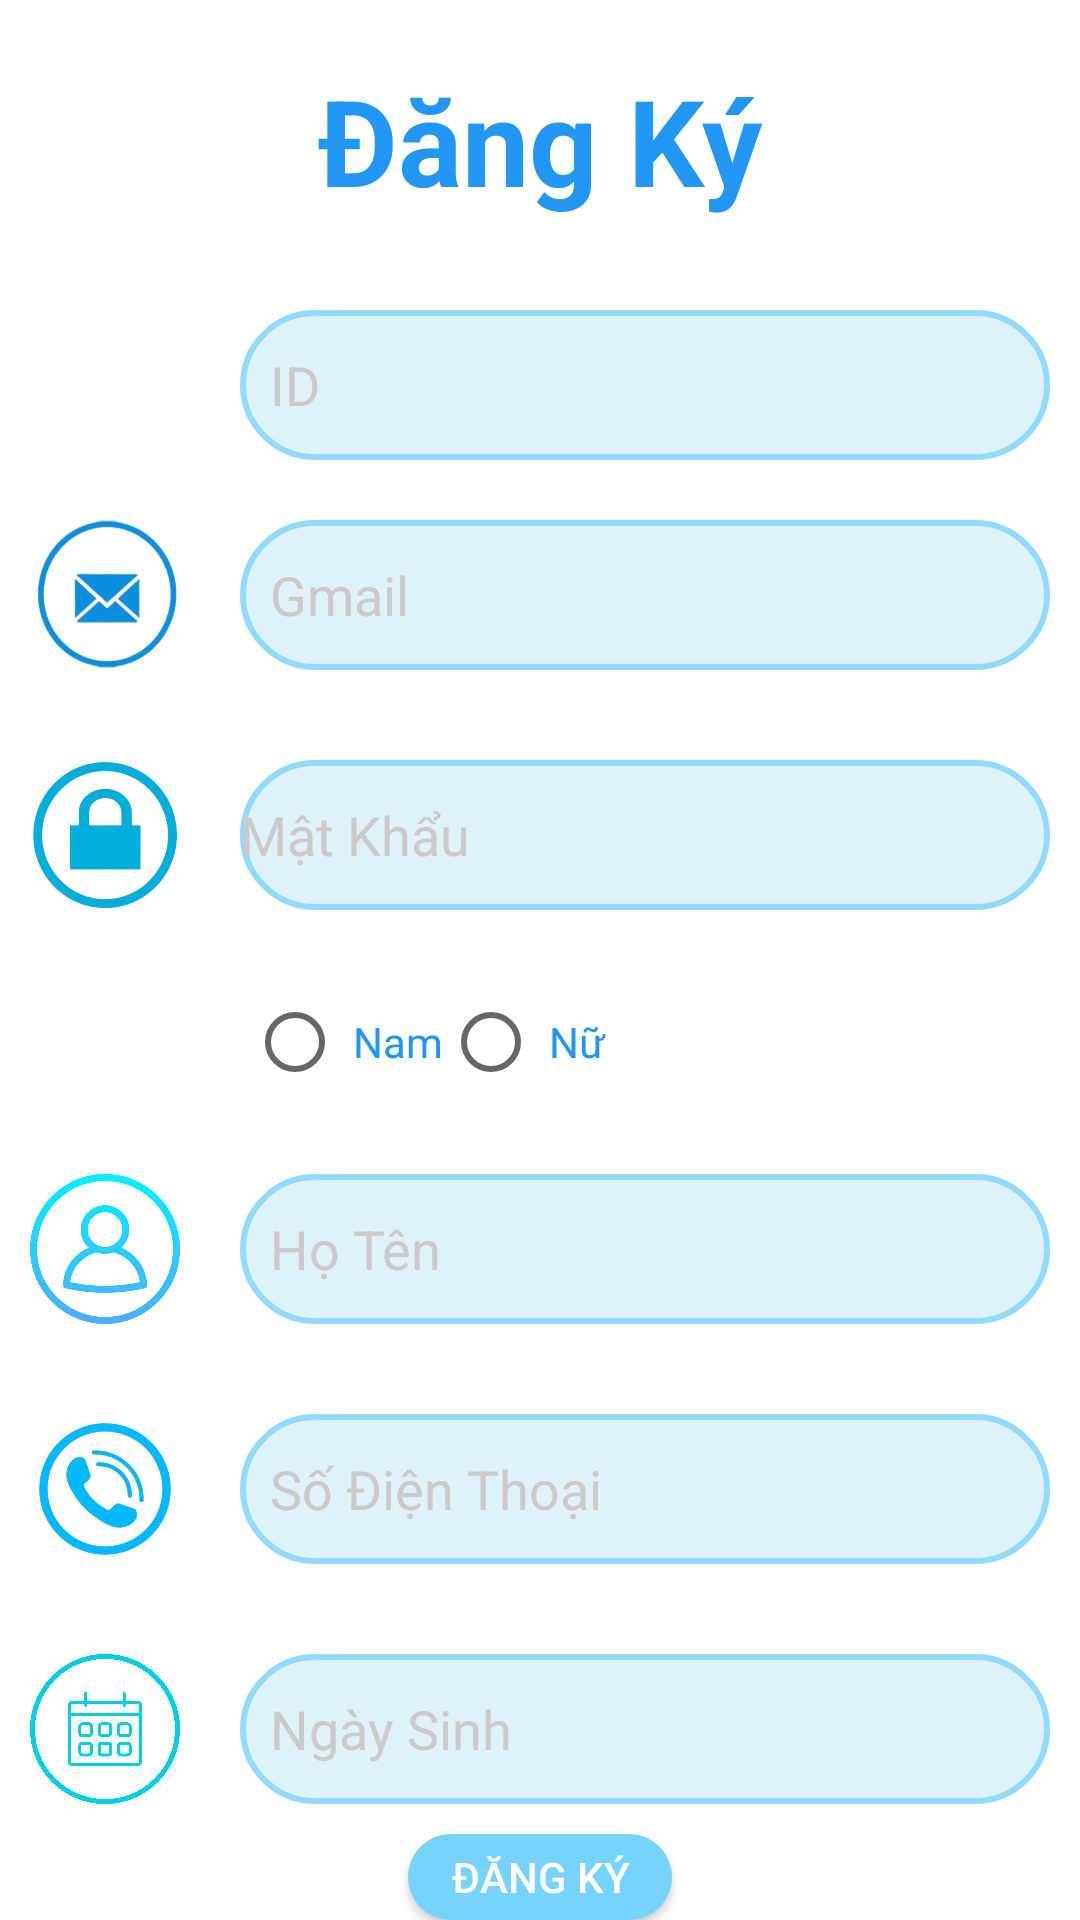

Icons on this 1080 × 1920 Android screen, each with the point to tap as (x=x, y=y):
icondate: (x=105, y=1729)
iconlock: (x=105, y=835)
iconmail: (x=107, y=594)
iconphone: (x=105, y=1489)
